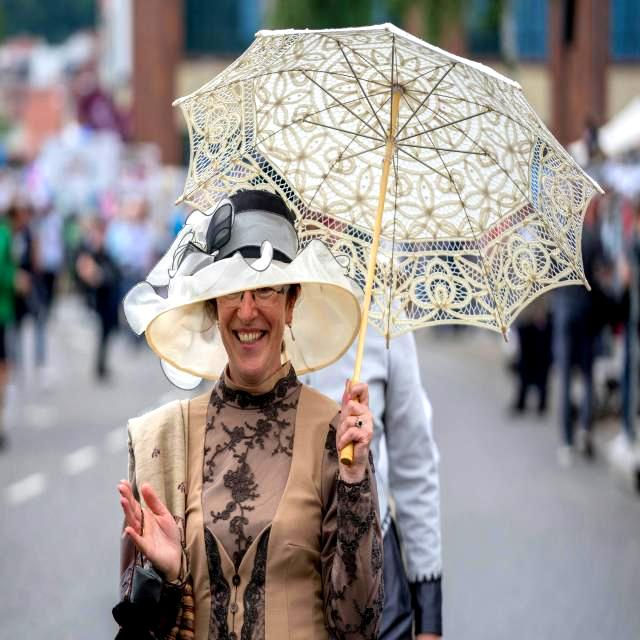no_hard_hat: (124, 190, 364, 379)
person: (114, 190, 384, 640)
